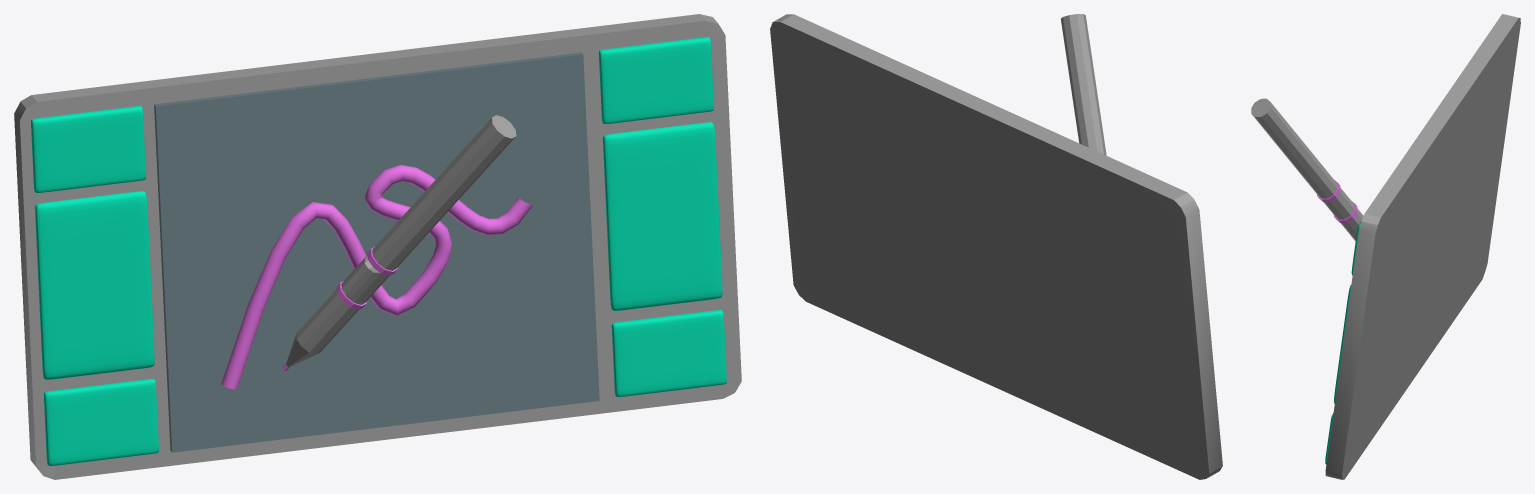
Rendered from tablet.glb.
The picture shows the model from 3 angles, left to right: view 1: azimuth 30°, elevation 25°; view 2: azimuth 150°, elevation 25°; view 3: azimuth 270°, elevation 25°; orthographic projection. The views are drawn at different scales.
Visible parts, largest first — view 1: tablet-plocha, Cube.012, Cube.023, Cube.040, BezierCurve, pero, Cube.098, Cube.013, Cube.022, Cube.041; view 2: Cube.012, pero; view 3: Cube.012, pero.
Boxes of the visible parts, bbox=[...] form: tablet-plocha: bbox=[154, 52, 599, 452]; Cube.012: bbox=[14, 14, 741, 479]; Cube.023: bbox=[35, 191, 154, 379]; Cube.040: bbox=[603, 122, 722, 310]; BezierCurve: bbox=[221, 165, 532, 389]; pero: bbox=[286, 115, 516, 366]; Cube.098: bbox=[611, 310, 726, 396]; Cube.013: bbox=[44, 379, 158, 465]; Cube.022: bbox=[31, 106, 145, 192]; Cube.041: bbox=[599, 37, 713, 123]; Cube.012: bbox=[770, 14, 1222, 479]; pero: bbox=[1061, 14, 1106, 155]; Cube.012: bbox=[1325, 14, 1520, 479]; pero: bbox=[1251, 98, 1363, 240].
Bounding box in the file's own units: 1 × 0.6055 × 0.5144.
